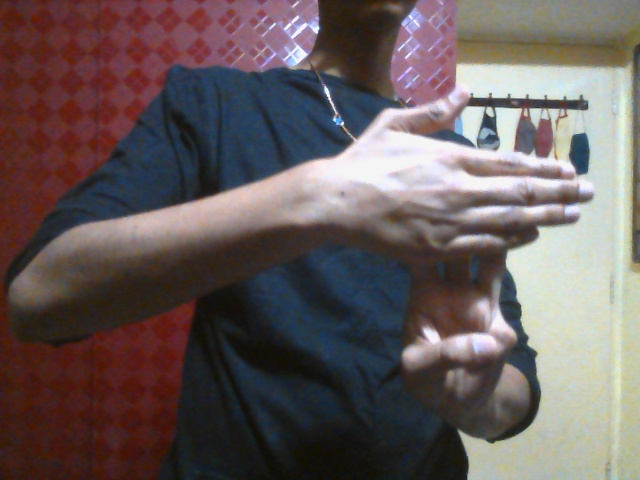M: (342, 87, 599, 415)
